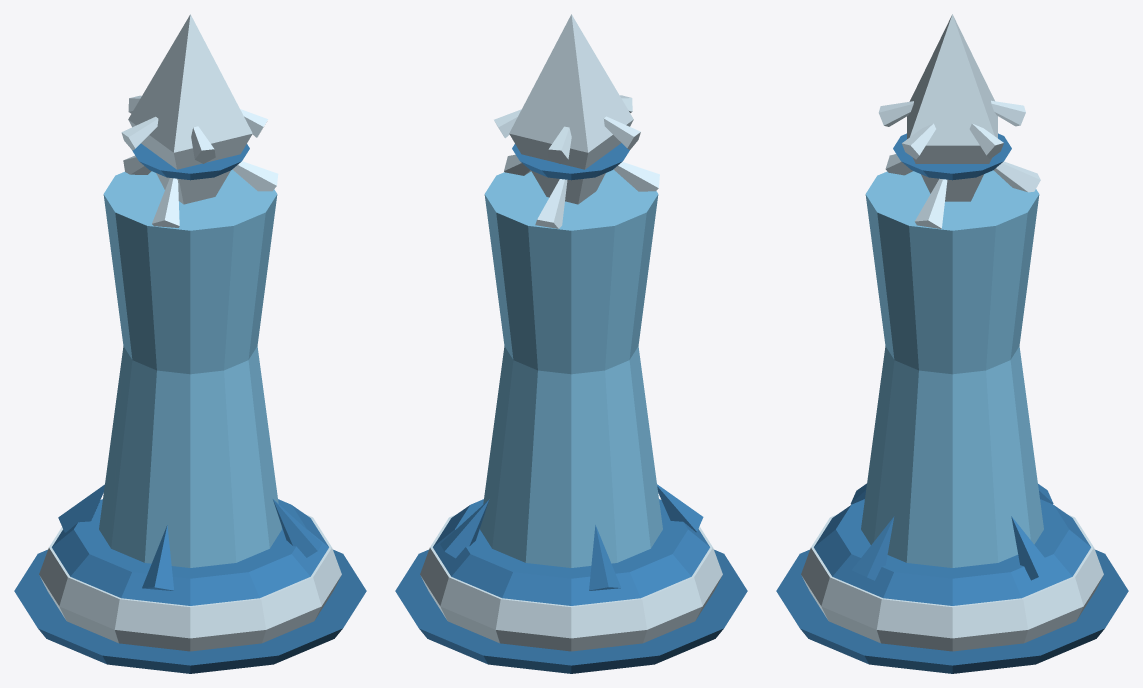
The model's file is tower_frost_l3.glb.
3 views of the same model, side by side, from view 1: azimuth 30°, elevation 25°; view 2: azimuth 150°, elevation 25°; view 3: azimuth 270°, elevation 25° (orthographic).
Parts seen in each view (by area): view 1: tower_frost_l3; view 2: tower_frost_l3; view 3: tower_frost_l3.
Part boxes in pixels (bbox=[...]): tower_frost_l3: bbox=[14, 14, 366, 673]; tower_frost_l3: bbox=[395, 14, 747, 673]; tower_frost_l3: bbox=[776, 14, 1128, 673].
Size of the model in its own units: 0.71 by 1.31 by 0.71.
